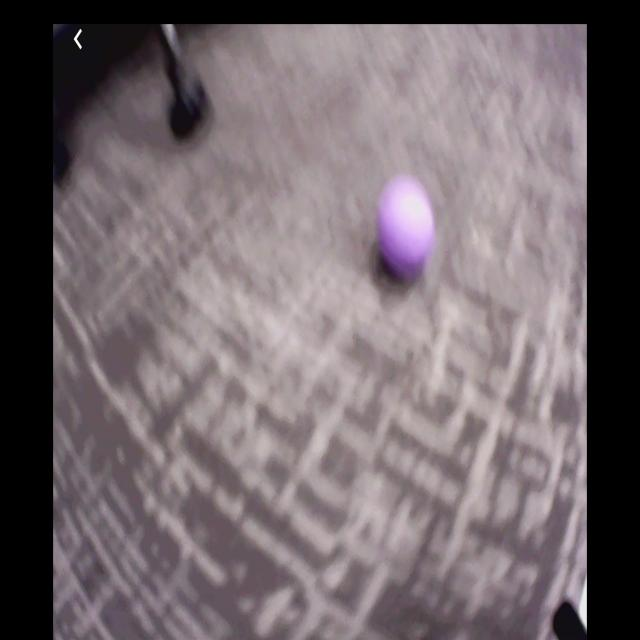ball: (379, 180, 434, 272)
